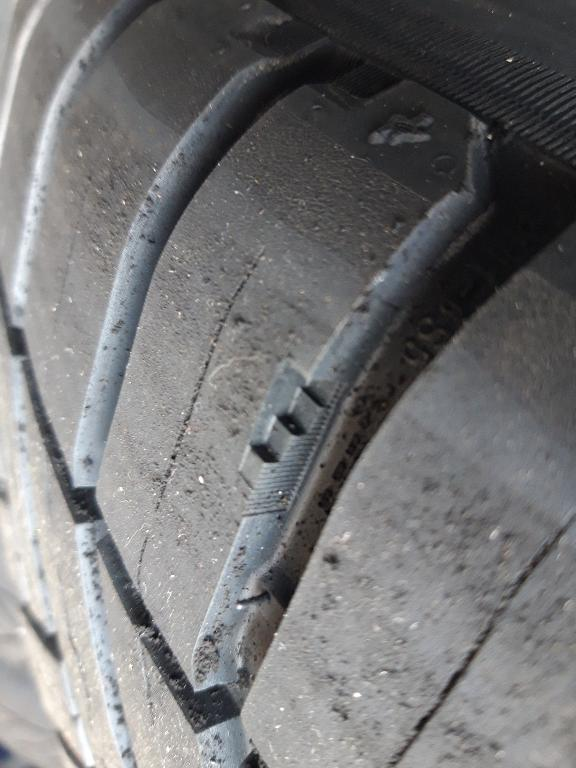temoin:75: (230, 352, 360, 497)
